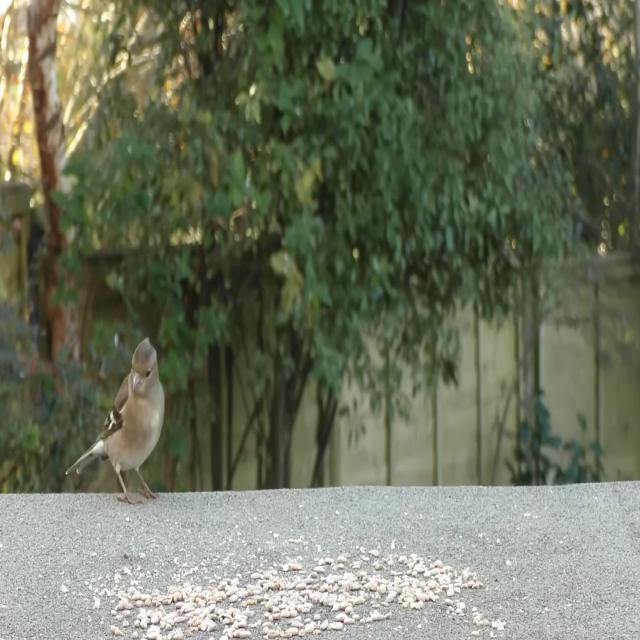beak: (132, 370, 142, 392)
bird: (64, 336, 168, 510)
